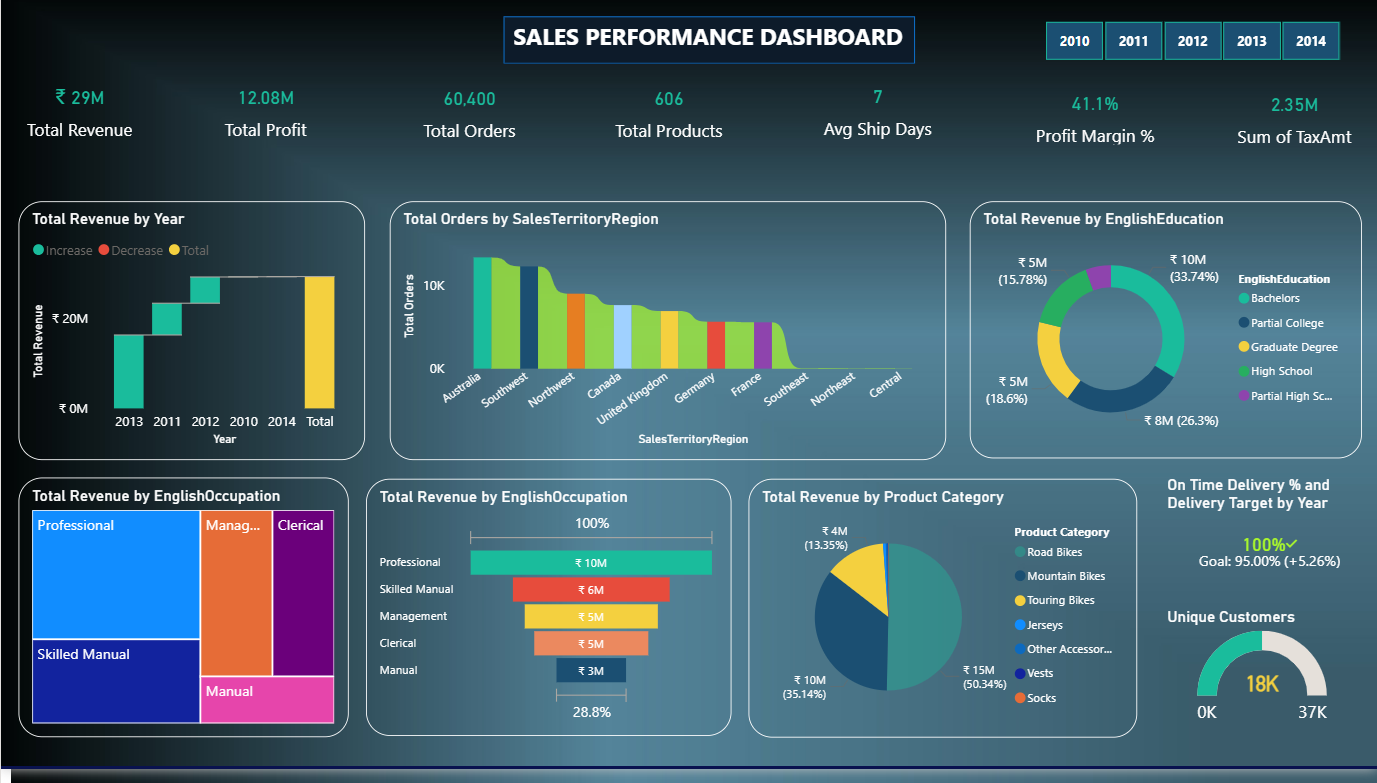

What the dashboard file says about the page in this screenshot:
{"tool":"powerbi","page":{"name":"Executive Overview","canvas":[1280,720],"ordinal":0},"visuals":[{"type":"shape","box":[467.1,20,382.9,44.3],"z":0},{"type":"textbox","box":[14,75.6,1252.3,68.6],"z":1000},{"type":"card","fields":{"Values":["fact_InternetSales.Total Revenue"]},"box":[15.1,76.8,116.6,60.4],"z":2000},{"type":"card","fields":{"Values":["fact_InternetSales.Total Profit"]},"box":[188.4,76.7,116.3,60.5],"z":3000},{"type":"card","fields":{"Values":["fact_InternetSales.Total Orders"]},"box":[376.7,77.9,118.6,60.5],"z":4000},{"type":"waterfallChart","fields":{"Category":["DateTable.Year"],"Y":["fact_InternetSales.Total Revenue"]},"box":[16.3,191.9,322.1,240.7],"z":5000},{"type":"treemap","fields":{"Values":["fact_InternetSales.Total Revenue"],"Group":["dim_Customer.EnglishOccupation"]},"box":[16.3,448.8,307,241.9],"z":6000},{"type":"textbox","box":[466.7,18.9,383.3,45.6],"z":7000},{"type":"pieChart","fields":{"Category":["dim_Product.Product Category"],"Y":["fact_InternetSales.Total Revenue"]},"box":[695.4,450,361.6,240.7],"z":8000},{"type":"card","fields":{"Values":["fact_InternetSales.Profit Margin %"]},"box":[955.8,81.4,124.4,62.8],"z":9000},{"type":"funnel","fields":{"Category":["dim_Customer.EnglishOccupation"],"Y":["fact_InternetSales.Total Revenue"]},"box":[340,450,340,238.9],"z":10000},{"type":"donutChart","fields":{"Category":["dim_Customer.EnglishEducation"],"Y":["fact_InternetSales.Total Revenue"]},"box":[901.2,191.9,365.1,239.5],"z":11000},{"type":"card","fields":{"Values":["fact_InternetSales.Product count"]},"box":[520.9,77.9,201.2,60.5],"z":12000},{"type":"kpi","fields":{"Indicator":["fact_InternetSales.On Time Delivery %"],"TrendLine":["DateTable.Year"],"Goal":["fact_InternetSales.Delivery Target"]},"box":[1080.2,446.5,200,111.6],"z":13000},{"type":"card","fields":{"Values":["fact_InternetSales.Avg Ship Days"]},"box":[744.2,73.3,143,66.3],"z":14000},{"type":"gauge","fields":{"Y":["fact_InternetSales.Unique Customers"]},"box":[1080.2,569.8,186,118.6],"z":15000},{"type":"ribbonChart","fields":{"Category":["dim_SalesTeritory.SalesTerritoryRegion"],"Y":["fact_InternetSales.Total Orders"]},"box":[361.6,191.9,517.4,240.7],"z":16000},{"type":"slicer","fields":{"Values":["DateTable.Year"]},"box":[944.4,18.9,321.1,45.6],"z":17000},{"type":"card","fields":{"Values":["Sum(fact_InternetSales.TaxAmt)"]},"box":[1126.7,83.7,153.5,60.5],"z":18000}]}

Visuals, with their boxes in screenshot pixels (x1, y1, x2, y2), scaled from the page's 1280x720 canvas onto the 1377x783 screenshot:
shape: 502, 22, 914, 70
textbox: 15, 82, 1362, 157
card - fact_InternetSales.Total Revenue: 16, 84, 142, 149
card - fact_InternetSales.Total Profit: 203, 83, 328, 149
card - fact_InternetSales.Total Orders: 405, 85, 533, 151
waterfallChart - DateTable.Year x fact_InternetSales.Total Revenue: 18, 209, 364, 470
treemap - fact_InternetSales.Total Revenue x dim_Customer.EnglishOccupation: 18, 488, 348, 751
textbox: 502, 21, 914, 70
pieChart - dim_Product.Product Category x fact_InternetSales.Total Revenue: 748, 489, 1137, 751
card - fact_InternetSales.Profit Margin %: 1028, 89, 1162, 157
funnel - dim_Customer.EnglishOccupation x fact_InternetSales.Total Revenue: 366, 489, 732, 749
donutChart - dim_Customer.EnglishEducation x fact_InternetSales.Total Revenue: 969, 209, 1362, 469
card - fact_InternetSales.Product count: 560, 85, 777, 151
kpi - fact_InternetSales.On Time Delivery % x DateTable.Year: 1162, 486, 1376, 607
card - fact_InternetSales.Avg Ship Days: 801, 80, 954, 152
gauge - fact_InternetSales.Unique Customers: 1162, 620, 1362, 749
ribbonChart - dim_SalesTeritory.SalesTerritoryRegion x fact_InternetSales.Total Orders: 389, 209, 946, 470
slicer - DateTable.Year: 1016, 21, 1361, 70
card - Sum(fact_InternetSales.TaxAmt): 1212, 91, 1376, 157
